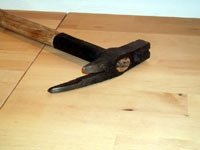hammer: (1, 8, 152, 95)
